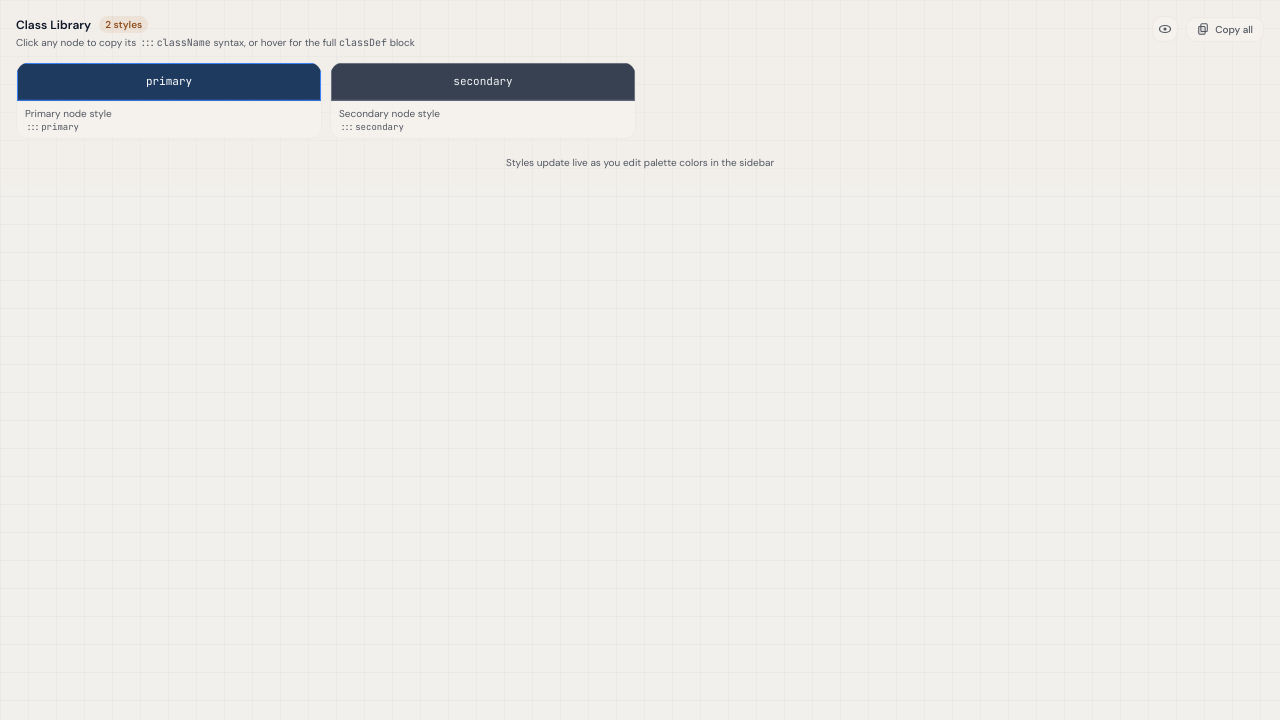
ClassBrowser — classDef preview panel highlighting (integration) › clicking the preview toggle button mounts the preview panel
The image size is (1280, 720).
Click the button named "Preview all classDefs": x=1165, y=29 [1152, 16, 1178, 42]
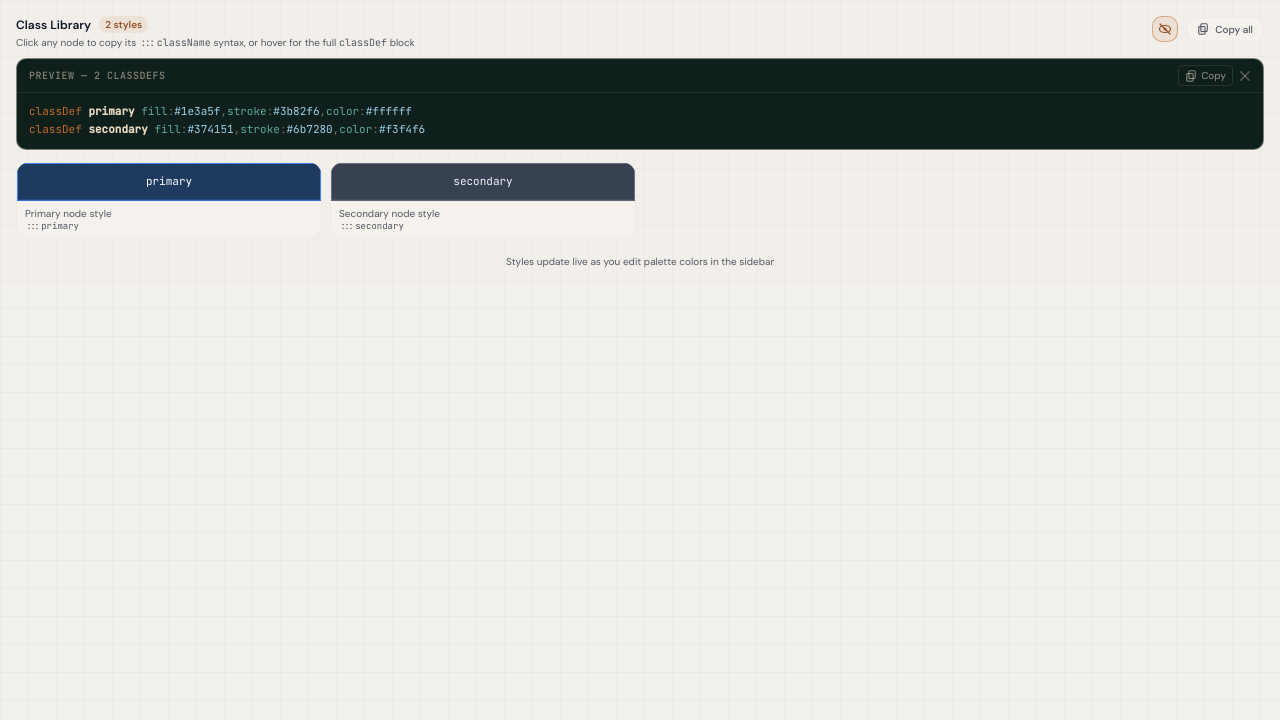
Now the element that starts with "classDef" is shown, box [29, 104, 425, 136]
